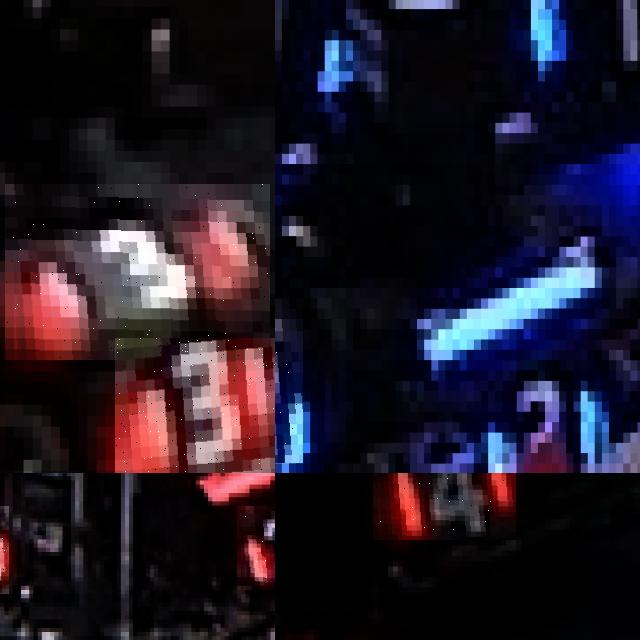B3: (275, 318, 303, 463)
R2: (237, 506, 275, 590)
R3: (5, 184, 270, 360), (114, 338, 275, 473)
R4: (373, 473, 516, 540)
